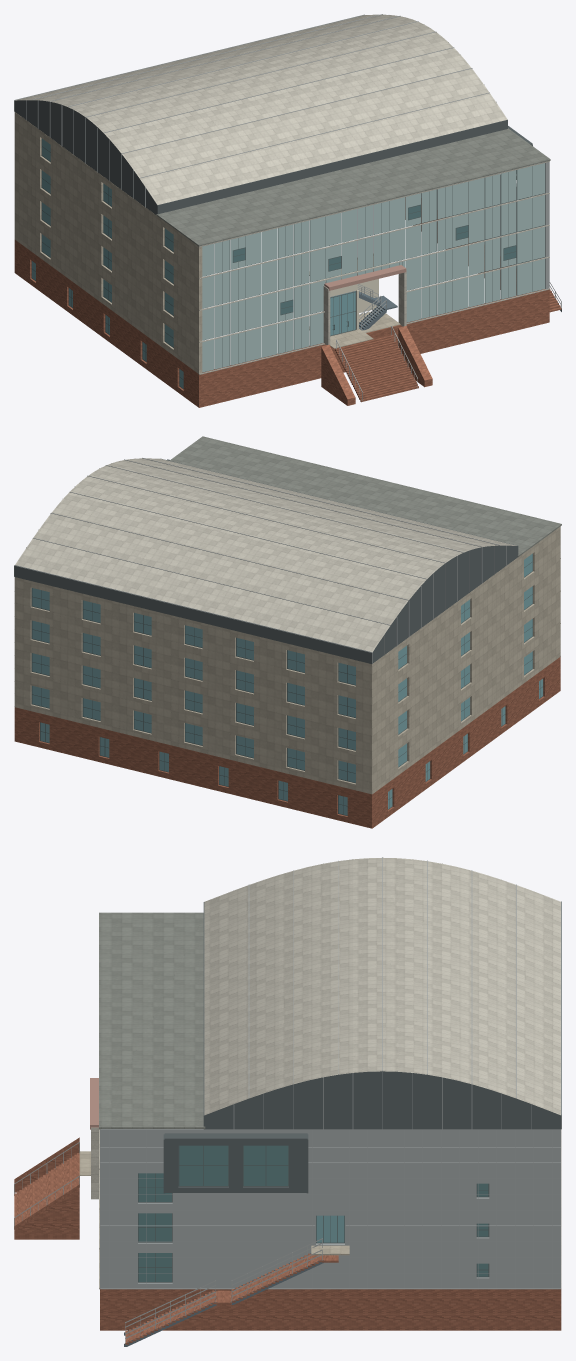
3 renders of one model, top to bottom at view 1: azimuth 30°, elevation 25°; view 2: azimuth 150°, elevation 25°; view 3: azimuth 270°, elevation 25°, orthographic. The views are drawn at different scales.
Parts seen in each view (by area): view 1: naksan__pale, naksan__opalglass, naksan__stone, naksan__brick, naksan__roof, naksan__metalroof, naksan__frame, naksan__seam, naksan__stair-west-entry, naksan__glass, naksan__sheet, naksan__windowglass (+4 smaller); view 2: naksan__stone, naksan__pale, naksan__brick, naksan__glass, naksan__roof, naksan__metalroof, naksan__seam, naksan__frame; view 3: naksan__pale, naksan__sheet, naksan__roof, naksan__brick, naksan__metalroof, naksan__seam, naksan__windowglass, naksan__stair-west-entry, naksan__rail, naksan__frame, naksan__side-stair-low, naksan__side-stair-high (+2 smaller).
Boxes of the visible parts, box(x1,y1,x2,y2) form: naksan__pale: box(15, 14, 549, 374); naksan__opalglass: box(202, 163, 545, 372); naksan__stone: box(14, 112, 400, 373); naksan__brick: box(14, 197, 549, 407); naksan__roof: box(156, 128, 550, 246); naksan__metalroof: box(14, 100, 532, 214); naksan__frame: box(31, 138, 544, 389); naksan__seam: box(14, 14, 496, 207); naksan__stair-west-entry: box(335, 335, 418, 402); naksan__glass: box(32, 138, 355, 388); naksan__sheet: box(421, 162, 549, 289); naksan__windowglass: box(232, 170, 530, 314); naksan__stone: box(14, 526, 560, 794); naksan__pale: box(15, 458, 560, 656); naksan__brick: box(14, 657, 560, 828); naksan__glass: box(32, 554, 542, 815); naksan__roof: box(169, 436, 561, 556); naksan__metalroof: box(14, 458, 518, 663); naksan__seam: box(14, 457, 506, 663); naksan__frame: box(31, 553, 543, 815); naksan__pale: box(91, 857, 560, 1289); naksan__sheet: box(100, 1129, 560, 1288); naksan__roof: box(99, 912, 205, 1128); naksan__brick: box(14, 1137, 561, 1330); naksan__metalroof: box(163, 902, 561, 1193); naksan__seam: box(100, 857, 561, 1289); naksan__windowglass: box(138, 1145, 488, 1281); naksan__stair-west-entry: box(14, 1153, 79, 1225); naksan__rail: box(14, 1142, 322, 1342); naksan__frame: box(138, 1145, 489, 1282); naksan__side-stair-low: box(125, 1290, 215, 1344); naksan__side-stair-high: box(232, 1253, 322, 1302).
Bounding box in the file's own units: 46.56 × 25.03 × 47.3.
Materials: 15 (4 with a texture image).
